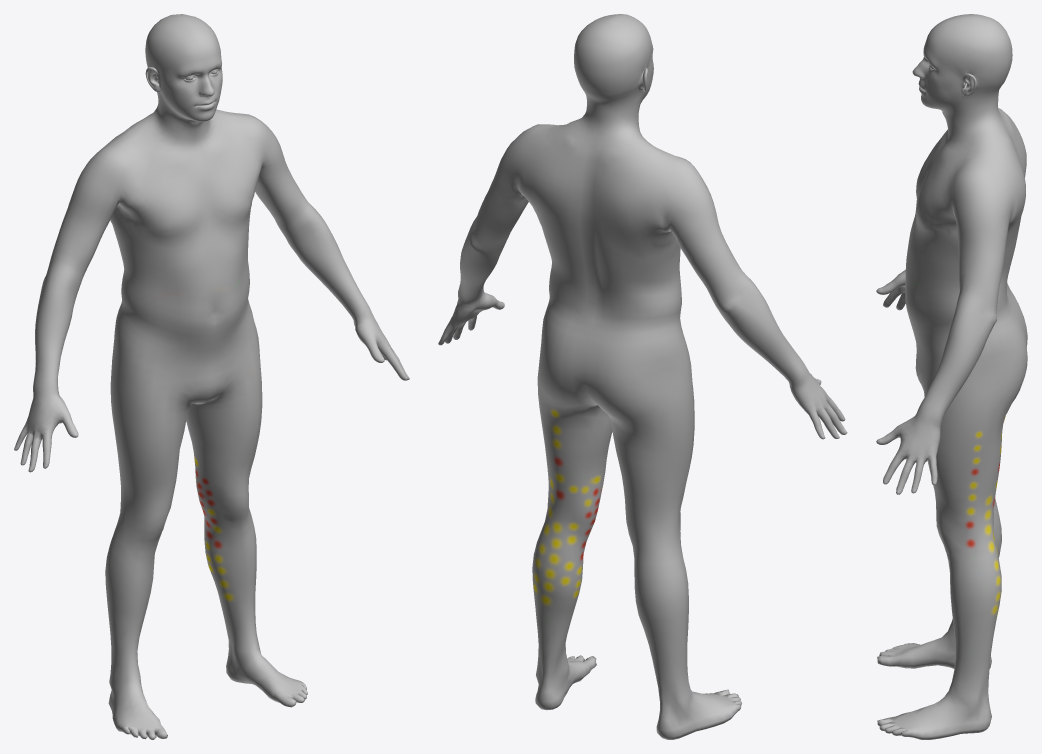
File: 1135018-hipflex-red+yellow.gltf
The picture shows the model from 3 angles, left to right: view 1: azimuth 30°, elevation 25°; view 2: azimuth 150°, elevation 25°; view 3: azimuth 270°, elevation 25°; orthographic projection. The views are drawn at different scales.
Visible parts, largest first — view 1: Male 68in 160lbs-A-pose; view 2: Male 68in 160lbs-A-pose; view 3: Male 68in 160lbs-A-pose.
Boxes of the visible parts, <box> form: Male 68in 160lbs-A-pose: <box>14,14,409,739</box>; Male 68in 160lbs-A-pose: <box>438,14,847,739</box>; Male 68in 160lbs-A-pose: <box>876,14,1027,739</box>.
Size of the model in its own units: 4.32 by 7.33 by 1.47.
Materials: 1 (1 with a texture image).
